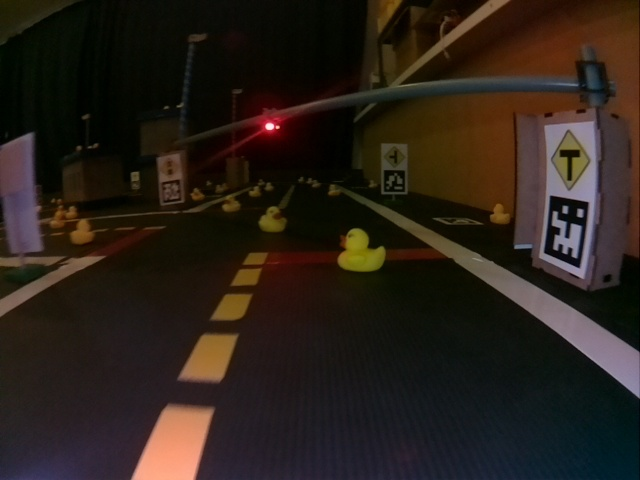Duckie: (337, 229, 387, 273), (258, 206, 287, 233), (70, 220, 93, 245), (490, 203, 511, 225), (221, 195, 240, 211), (50, 211, 64, 227), (66, 206, 79, 219), (191, 189, 205, 201), (328, 184, 340, 196), (249, 186, 261, 197), (265, 182, 274, 191), (369, 179, 377, 187)
Intersection sign: (548, 127, 589, 194), (384, 146, 406, 167)
QR code: (542, 195, 590, 271), (383, 170, 405, 193), (433, 216, 482, 226), (160, 181, 181, 204)
Traffic light: (261, 110, 283, 132)
